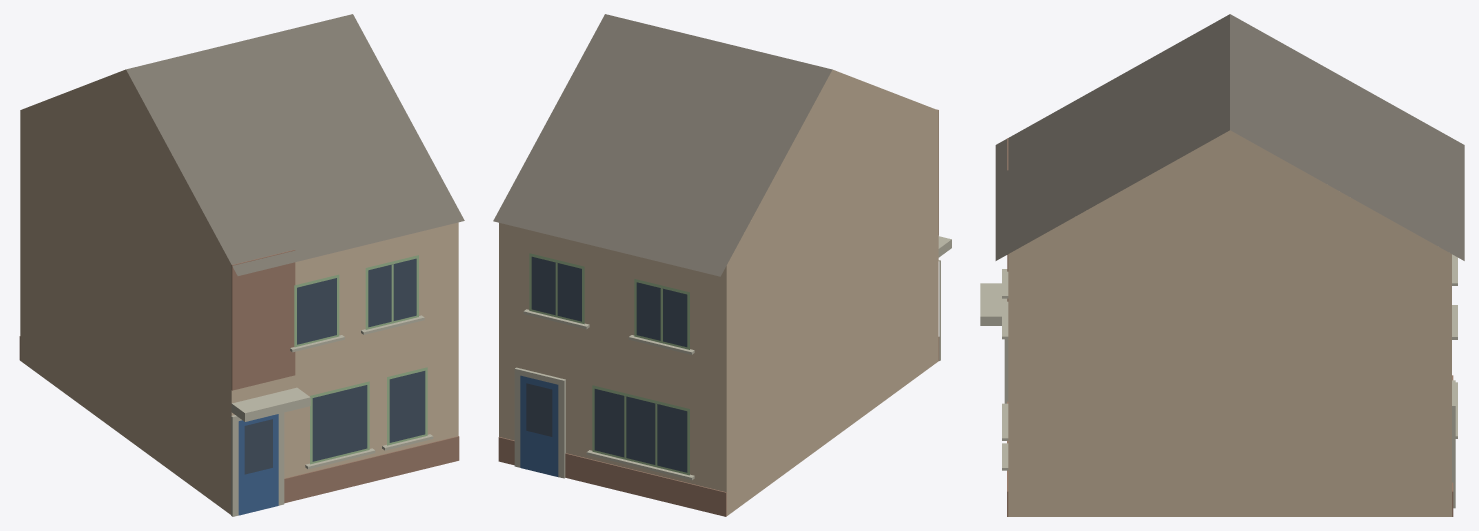
File: zo-rb-pair-door__buff__2__gable__long__solid.glb
3 views of the same model, side by side, from view 1: azimuth 30°, elevation 25°; view 2: azimuth 150°, elevation 25°; view 3: azimuth 270°, elevation 25° (orthographic). The views are drawn at different scales.
Parts seen in each view (by area): view 1: zo-rb-pair-door__buff__2__gable__long__solid; view 2: zo-rb-pair-door__buff__2__gable__long__solid; view 3: zo-rb-pair-door__buff__2__gable__long__solid.
Part boxes in pixels (<box>): zo-rb-pair-door__buff__2__gable__long__solid: <box>19,14,464,516</box>; zo-rb-pair-door__buff__2__gable__long__solid: <box>493,14,951,516</box>; zo-rb-pair-door__buff__2__gable__long__solid: <box>980,14,1464,516</box>.
Bounding box in the file's own units: 5.42 × 8.39 × 9.52.
